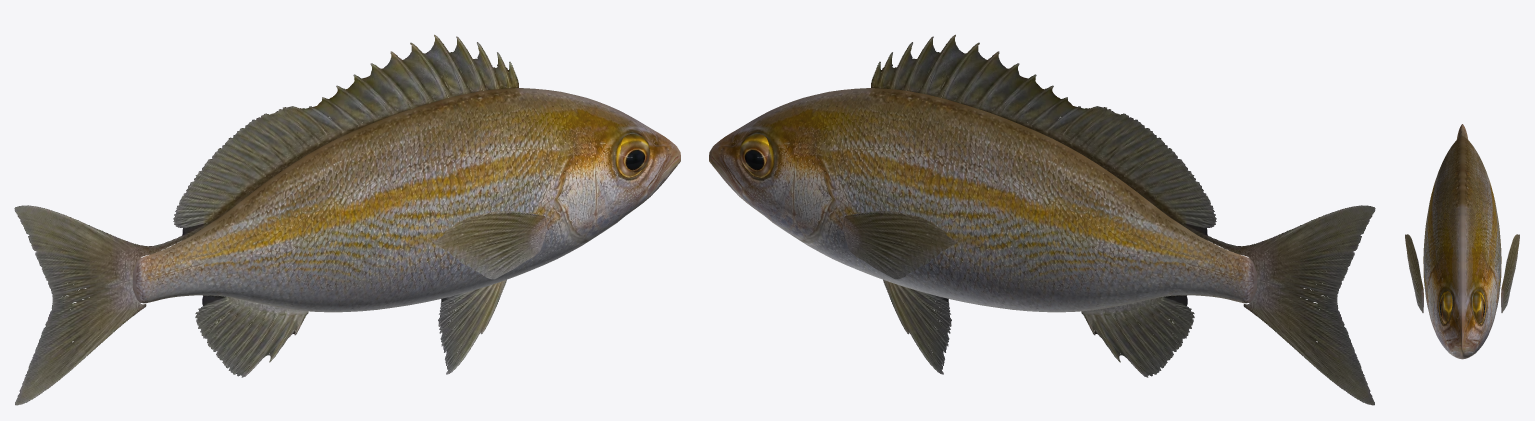
File: fish_isaki.glb
3 views of the same model, side by side, from view 1: azimuth 30°, elevation 25°; view 2: azimuth 150°, elevation 25°; view 3: azimuth 270°, elevation 25° (orthographic). The views are drawn at different scales.
Visible parts, largest first — view 1: hi, lo; view 2: hi, lo; view 3: hi, lo.
Part boxes in pixels (x1,y1,x2,y2): hi: (14, 34, 680, 405); lo: (15, 43, 680, 404); hi: (709, 35, 1375, 405); lo: (709, 34, 1374, 404); hi: (1405, 124, 1519, 359); lo: (1406, 126, 1518, 354).
Size of the model in its own units: 1 by 0.4921 by 0.1977.
Materials: 1 (1 with a texture image).
